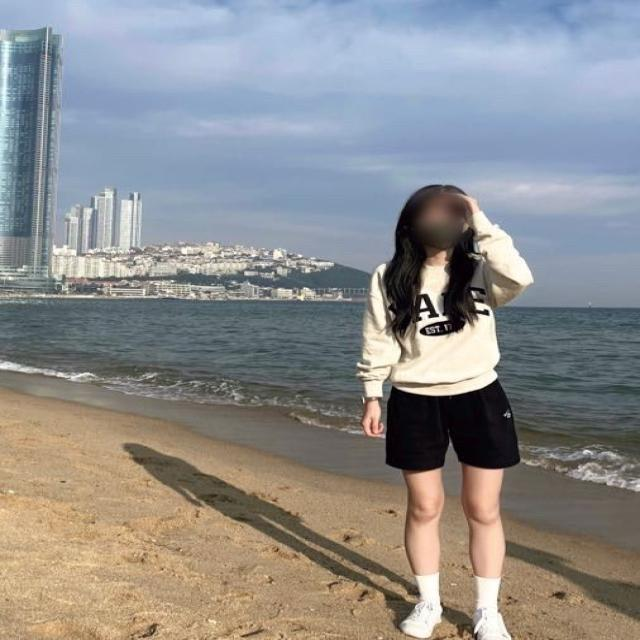mtm: (360, 212, 534, 397)
shortpants: (383, 375, 518, 476)
